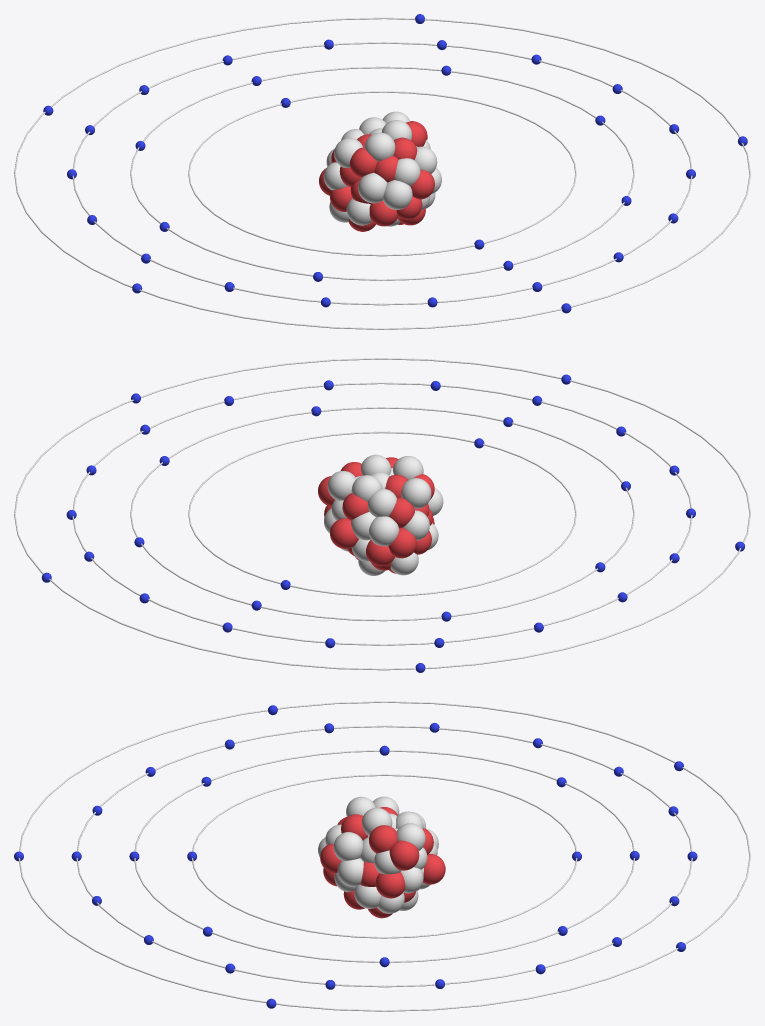
Rendered from Arsen.glb.
3 renders of one model, top to bottom at view 1: azimuth 30°, elevation 25°; view 2: azimuth 150°, elevation 25°; view 3: azimuth 270°, elevation 25°, orthographic.
Visible parts, largest first — view 1: N-Schale, M-Schale, L-Schale, K-Schale, Neutron 42, Neutron 40, Neutron 37, Proton 28, Neutron 38, Neutron 35, Proton 24; view 2: N-Schale, M-Schale, L-Schale, K-Schale, Neutron 8, Neutron 35, Proton 18, Neutron 16, Neutron 36, Proton 4, Neutron 30, Neutron 37; view 3: N-Schale, M-Schale, L-Schale, K-Schale, Neutron 41, Proton 29, Proton 31, Proton 26, Neutron 39, Neutron 31, Proton 18, Neutron 36.
Boxes of the visible parts, x1=… form: N-Schale: x1=14, y1=17, x2=750, y2=329; M-Schale: x1=72, y1=42, x2=692, y2=305; L-Schale: x1=130, y1=66, x2=634, y2=280; K-Schale: x1=188, y1=91, x2=576, y2=256; Neutron 42: x1=383, y1=180, x2=412, y2=209; Neutron 40: x1=358, y1=172, x2=387, y2=203; Neutron 37: x1=364, y1=132, x2=395, y2=161; Proton 28: x1=349, y1=147, x2=377, y2=177; Neutron 38: x1=394, y1=158, x2=420, y2=186; Neutron 35: x1=334, y1=138, x2=362, y2=167; Proton 24: x1=369, y1=200, x2=397, y2=226; N-Schale: x1=14, y1=358, x2=750, y2=670; M-Schale: x1=72, y1=382, x2=692, y2=645; L-Schale: x1=130, y1=407, x2=634, y2=621; K-Schale: x1=188, y1=431, x2=576, y2=596; Neutron 8: x1=369, y1=516, x2=399, y2=546; Neutron 35: x1=401, y1=478, x2=431, y2=508; Proton 18: x1=330, y1=518, x2=358, y2=548; Neutron 16: x1=368, y1=488, x2=396, y2=517; Neutron 36: x1=327, y1=471, x2=356, y2=500; Proton 4: x1=388, y1=528, x2=416, y2=558; Neutron 30: x1=351, y1=475, x2=382, y2=501; Neutron 37: x1=393, y1=456, x2=423, y2=479; N-Schale: x1=18, y1=701, x2=750, y2=1011; M-Schale: x1=76, y1=725, x2=692, y2=987; L-Schale: x1=134, y1=750, x2=635, y2=962; K-Schale: x1=191, y1=774, x2=577, y2=938; Neutron 41: x1=333, y1=832, x2=362, y2=860; Proton 29: x1=389, y1=840, x2=419, y2=870; Proton 31: x1=375, y1=872, x2=405, y2=898; Proton 26: x1=369, y1=825, x2=397, y2=853; Neutron 39: x1=337, y1=858, x2=363, y2=886; Neutron 31: x1=362, y1=807, x2=392, y2=836; Proton 18: x1=423, y1=854, x2=445, y2=884; Neutron 36: x1=396, y1=823, x2=425, y2=850.
Size of the model in its own units: 19.04 by 3.03 by 19.15.
